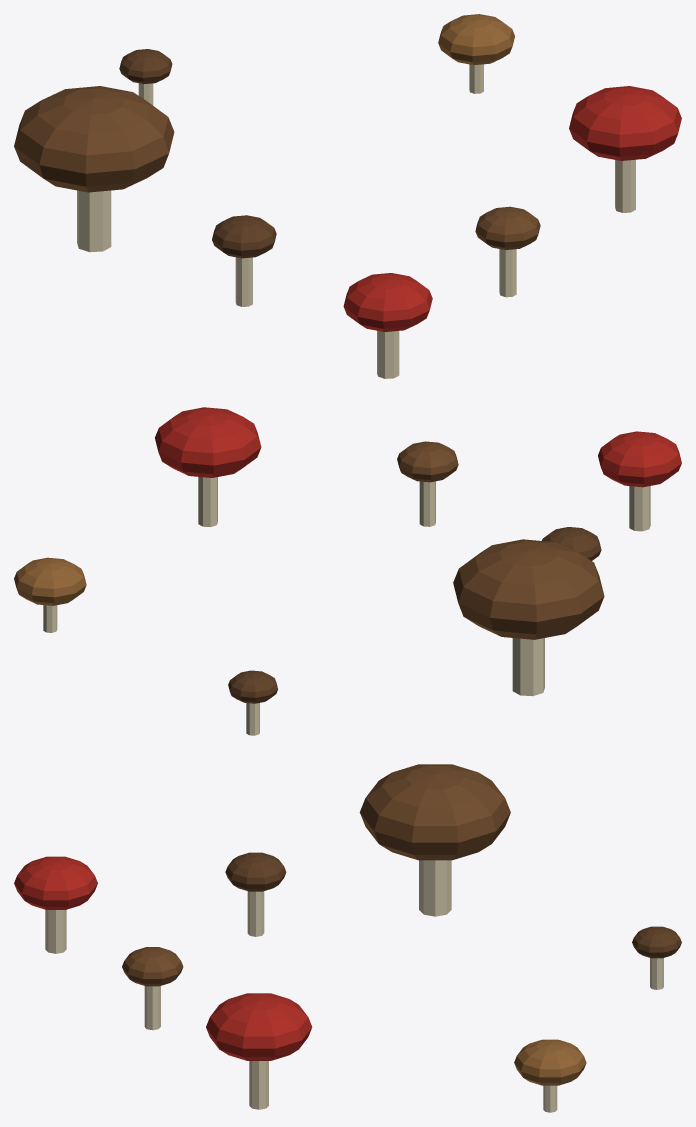
Rendered from prop_fungi_cluster.glb.
3 renders of one model, top to bottom at view 1: azimuth 30°, elevation 25°; view 2: azimuth 150°, elevation 25°; view 3: azimuth 270°, elevation 25°, orthographic. The views are drawn at different scales.
Parts seen in each view (by area): view 1: cap_3, cap_0, cap_5, cap_1, cap_6, cap_4, stem_3, cap_2, stem_0, stem_5, stem_4, stem_6; view 2: cap_3, cap_0, cap_5, cap_1, cap_6, stem_3, cap_2, cap_4, stem_0, stem_5, stem_6; view 3: cap_3, cap_0, cap_5, cap_1, cap_6, cap_4, stem_3, cap_2, stem_0, stem_5, stem_4, stem_6.
Part boxes in pixels (bbox=[...]): cap_3: bbox=[14, 86, 174, 192]; cap_0: bbox=[569, 86, 681, 160]; cap_5: bbox=[343, 273, 432, 331]; cap_1: bbox=[438, 14, 514, 65]; cap_6: bbox=[475, 206, 540, 249]; cap_4: bbox=[212, 215, 276, 258]; stem_3: bbox=[77, 190, 111, 252]; cap_2: bbox=[119, 49, 172, 83]; stem_0: bbox=[615, 159, 635, 212]; stem_5: bbox=[377, 330, 399, 378]; stem_4: bbox=[235, 257, 252, 306]; stem_6: bbox=[499, 249, 516, 297]; cap_3: bbox=[453, 539, 604, 639]; cap_0: bbox=[155, 407, 261, 477]; cap_5: bbox=[598, 431, 681, 487]; cap_1: bbox=[14, 557, 86, 605]; cap_6: bbox=[397, 441, 458, 482]; stem_3: bbox=[512, 638, 544, 696]; cap_2: bbox=[228, 670, 277, 703]; cap_4: bbox=[542, 527, 601, 560]; stem_0: bbox=[198, 477, 217, 526]; stem_5: bbox=[629, 486, 650, 531]; stem_6: bbox=[419, 481, 435, 526]; cap_3: bbox=[359, 764, 510, 860]; cap_0: bbox=[206, 993, 312, 1060]; cap_5: bbox=[14, 856, 97, 909]; cap_1: bbox=[514, 1039, 586, 1085]; cap_6: bbox=[122, 947, 183, 986]; cap_4: bbox=[225, 852, 286, 891]; stem_3: bbox=[419, 860, 451, 916]; cap_2: bbox=[632, 926, 681, 958]; stem_0: bbox=[249, 1061, 268, 1109]; stem_5: bbox=[45, 909, 66, 953]; stem_4: bbox=[247, 891, 264, 936]; stem_6: bbox=[144, 986, 160, 1030].
Size of the model in its own units: 0.4974 by 0.1265 by 0.567.
